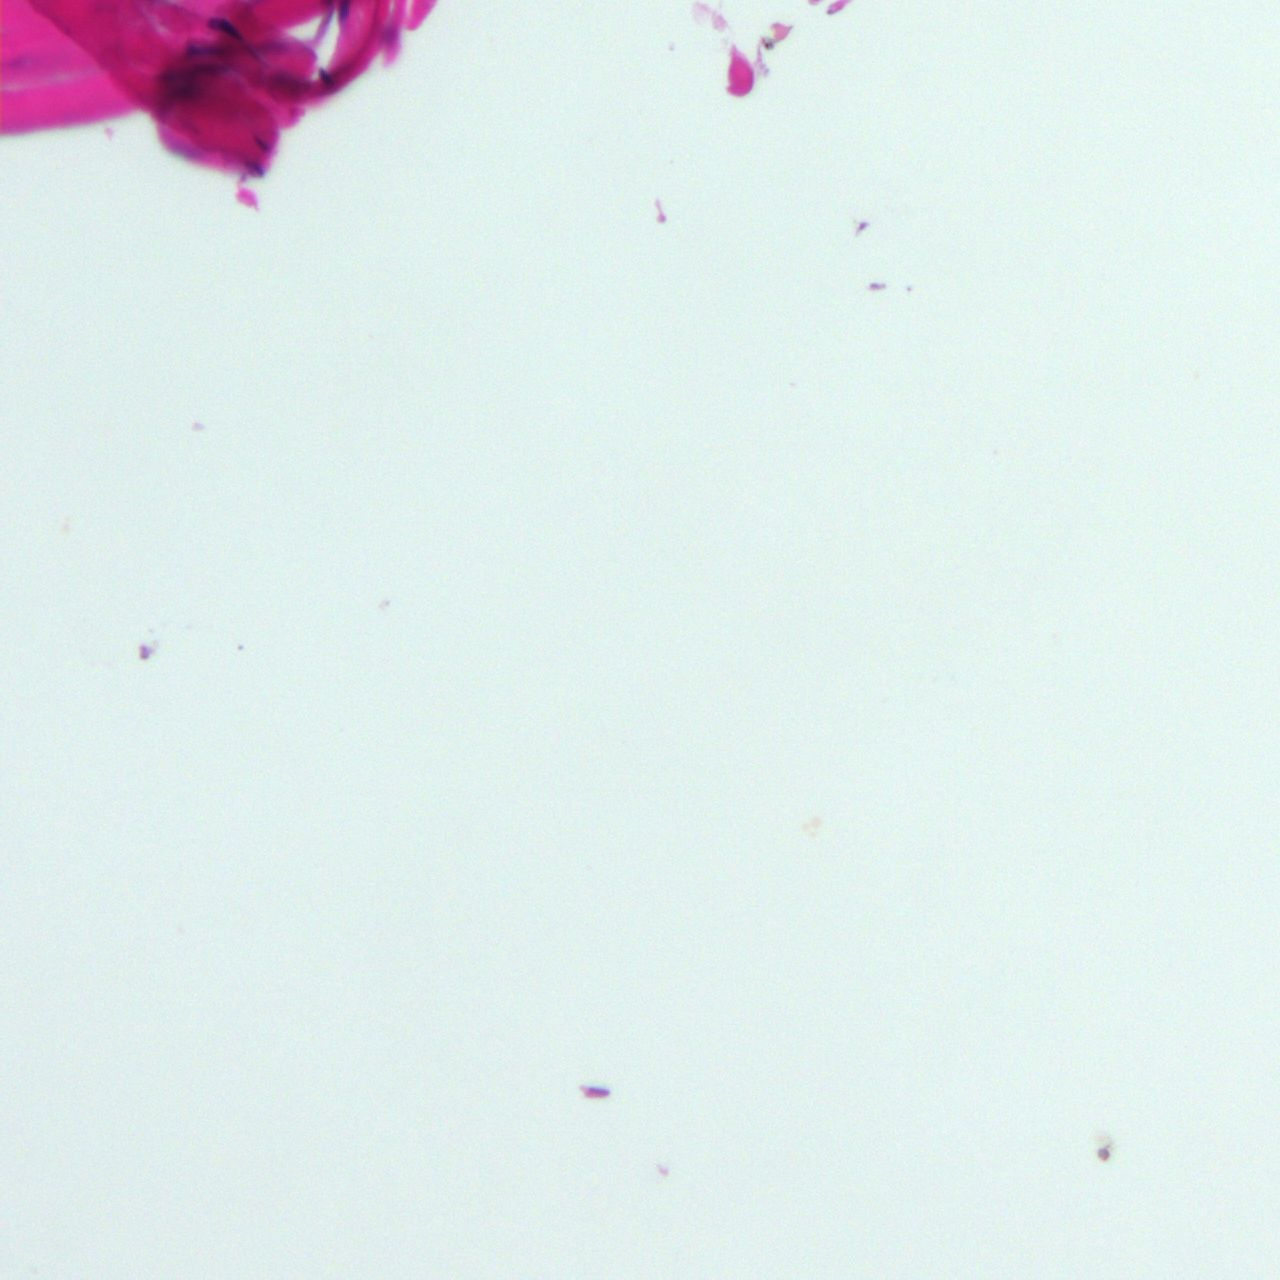dust: (1088, 1129, 1120, 1165)
nucleus-HE: (202, 8, 245, 49), (317, 67, 333, 86)
